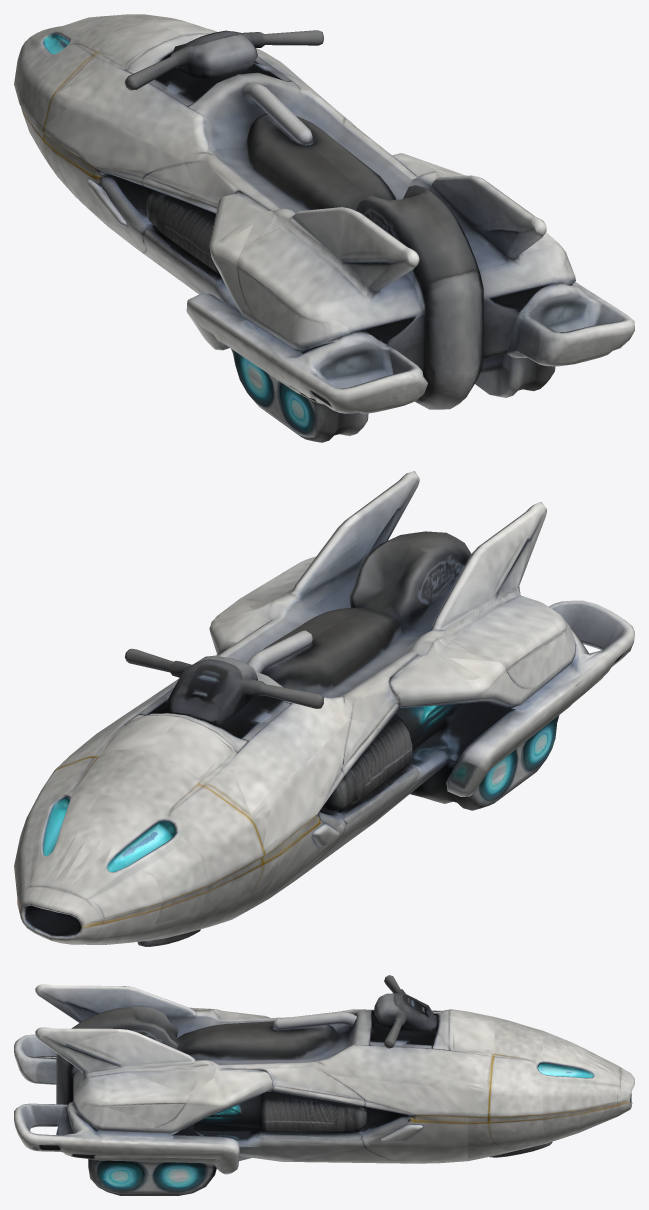
Rendered from f_bike.fbx.
The picture shows the model from 3 angles, top to bottom: view 1: azimuth 30°, elevation 25°; view 2: azimuth 150°, elevation 25°; view 3: azimuth 270°, elevation 25°; orthographic projection. The views are drawn at different scales.
Parts seen in each view (by area): view 1: f_bike; view 2: f_bike; view 3: f_bike.
Part boxes in pixels (x1,y1,x2,y2): f_bike: (14,14,634,442); f_bike: (14,471,634,946); f_bike: (14,975,634,1195).
Size of the model in its own units: 1.07 by 0.7954 by 2.7.
1 material, 1 textured.
